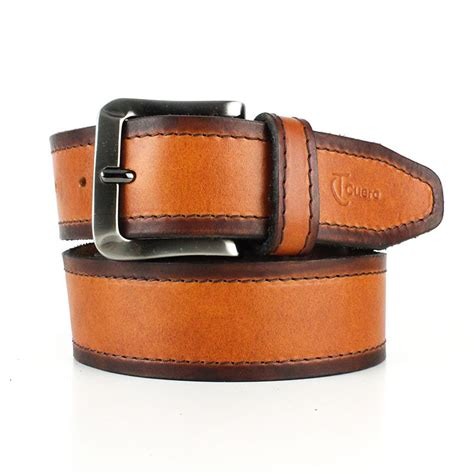cuero: (47, 115, 445, 381)
